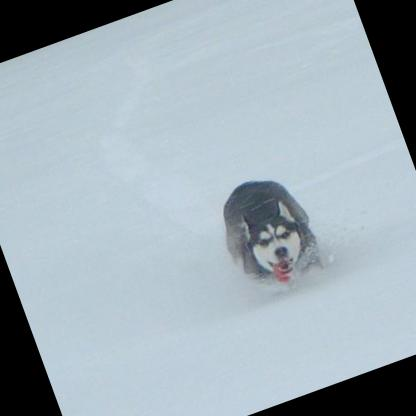Eskimo_dog: (192, 156, 350, 324)
